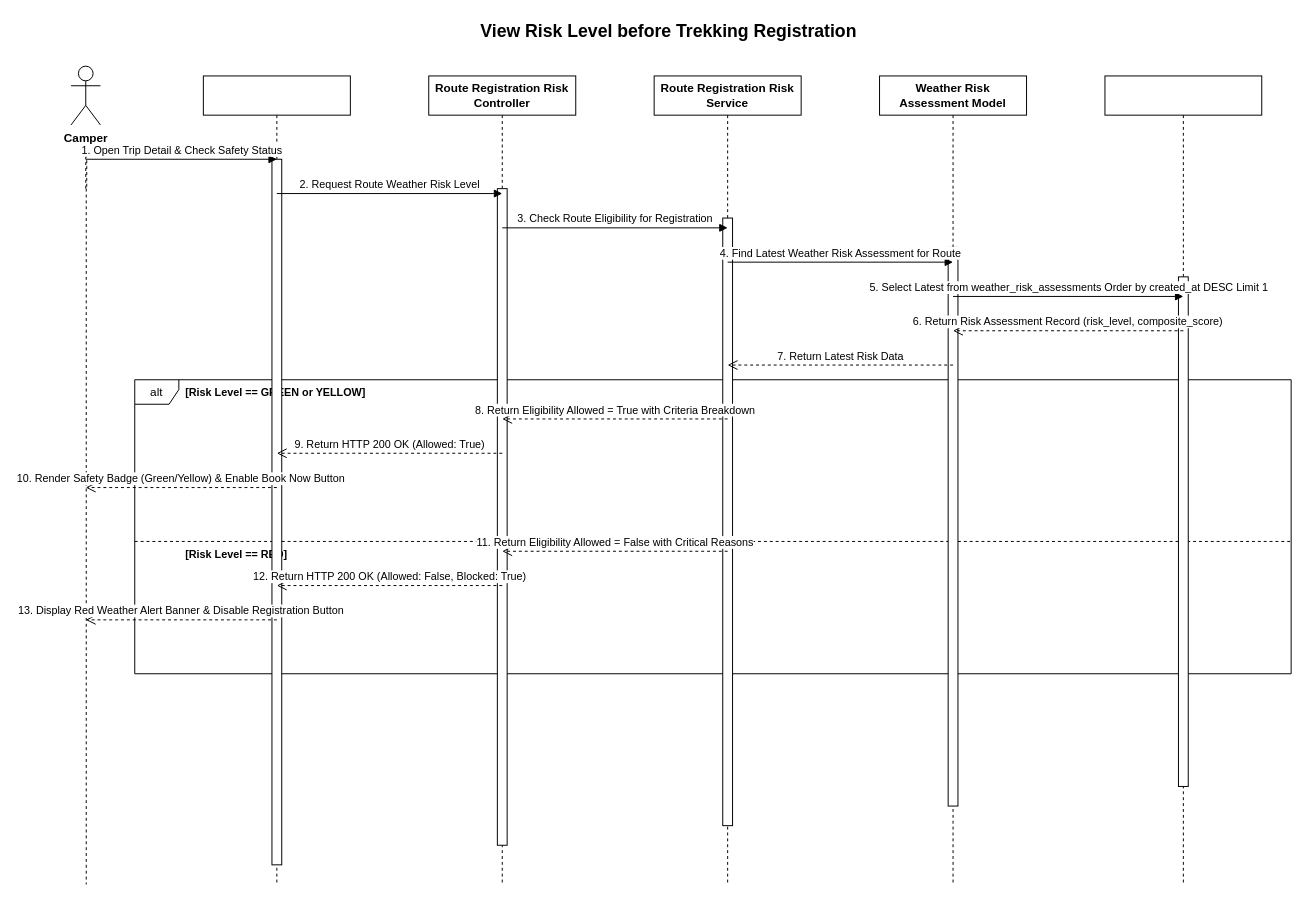
The diagram is 1308 pixels wide and 902 high, and some of its shapes have lost their labels. The box of each missing label's shape, as (x1, y1, x2, y2) in pixels:
PostgreSQL Database: (1104, 75, 1262, 884)
Trip Registration Detail Screen: (202, 75, 350, 884)
